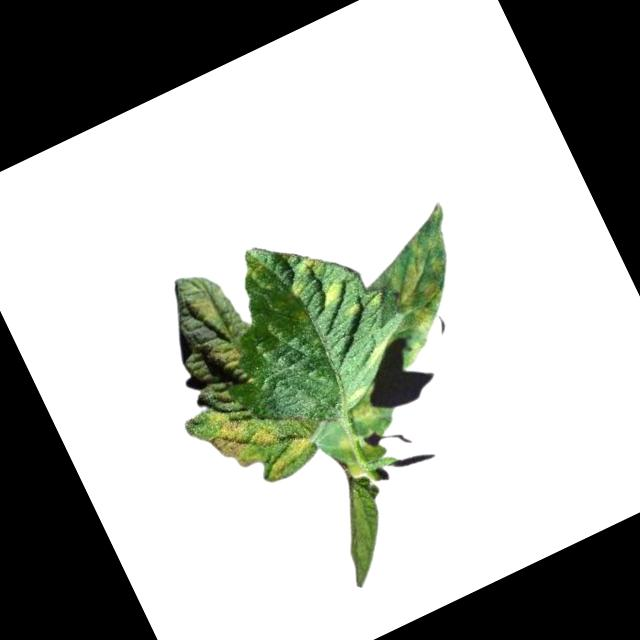Leaf_Mold: (351, 205, 499, 365), (198, 378, 318, 499), (183, 329, 254, 392), (183, 284, 230, 331), (344, 391, 389, 433), (318, 275, 354, 309)
